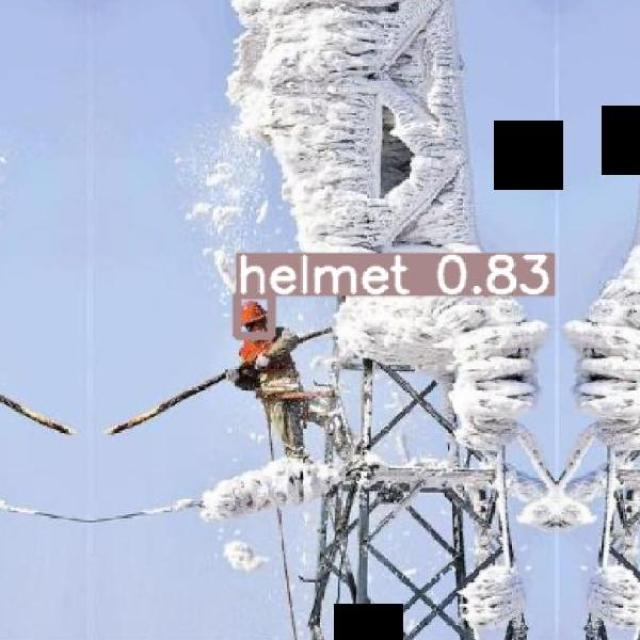red helmet: (242, 297, 270, 328)
